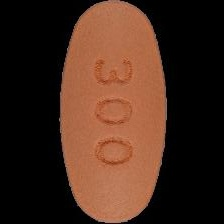0172-4358: (0, 0, 224, 224)
